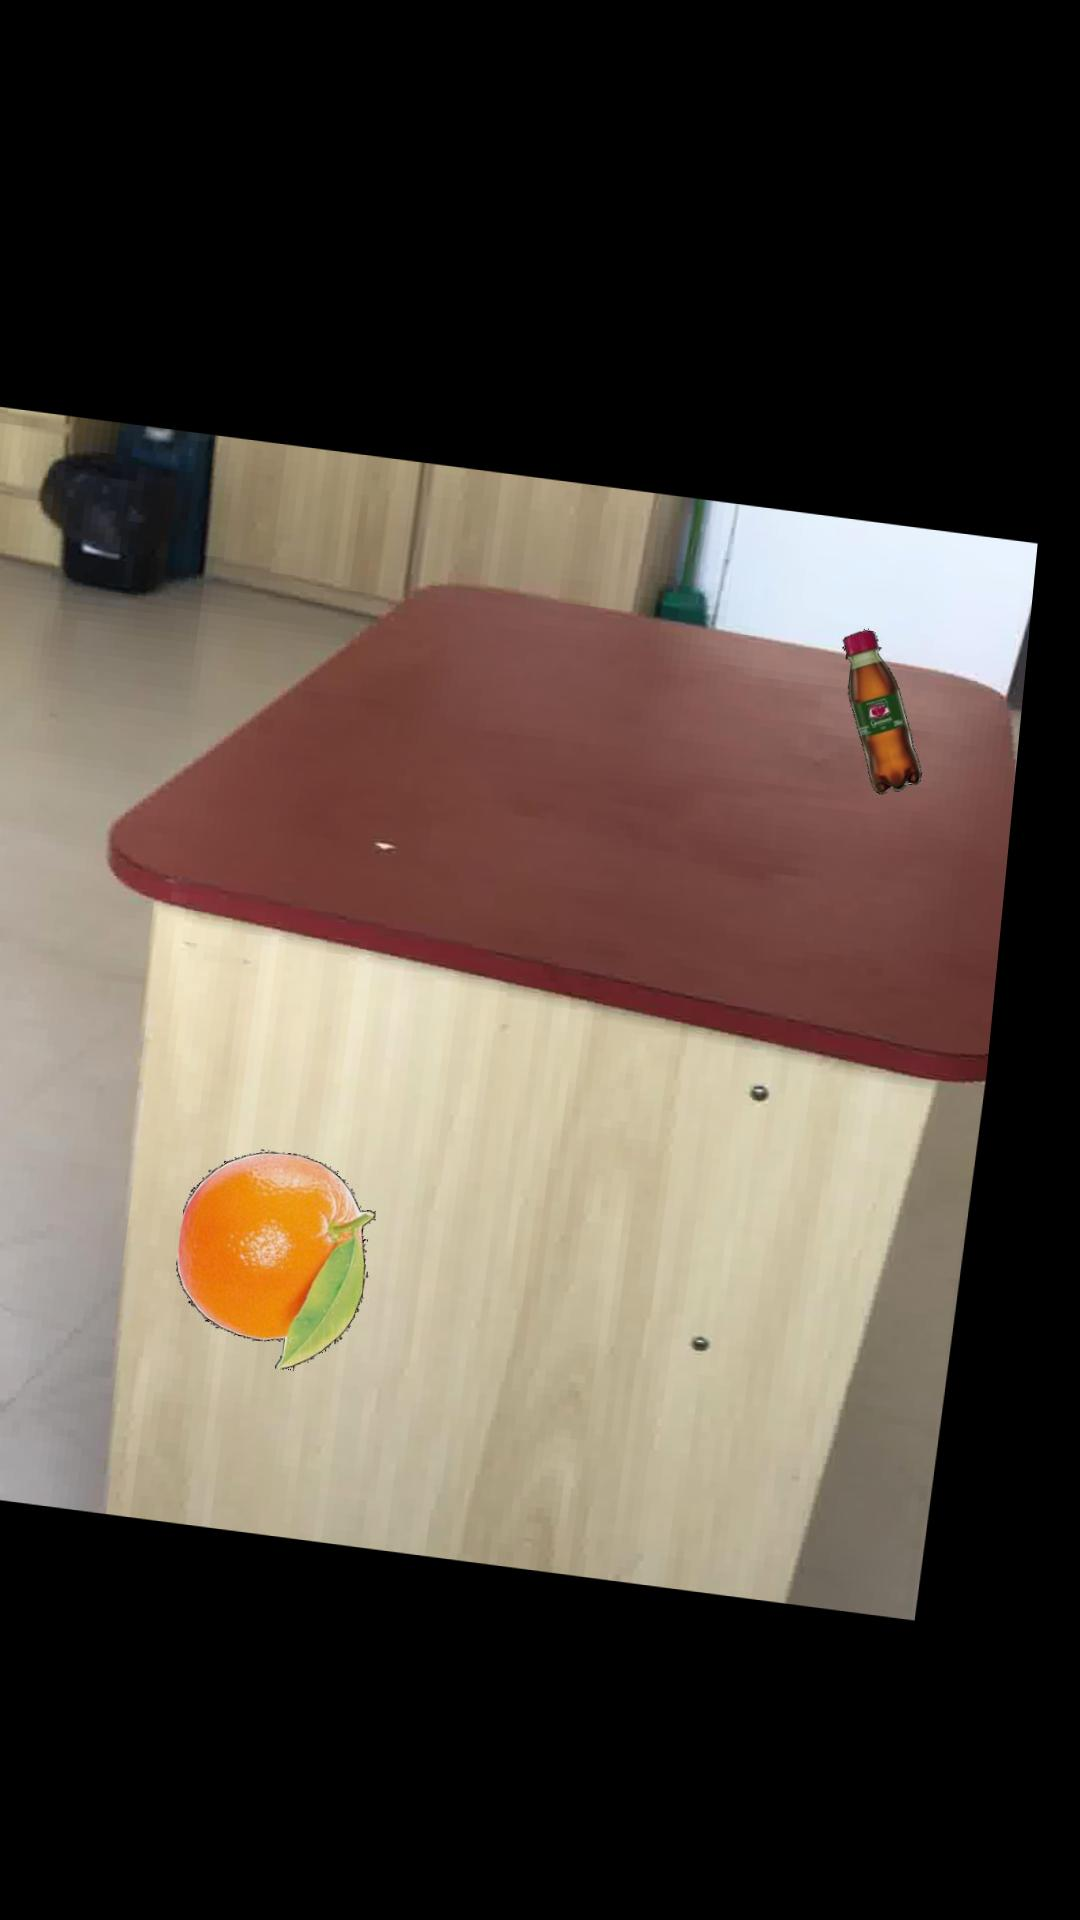guarana: (853, 612, 934, 775)
orange: (200, 1145, 398, 1361)
